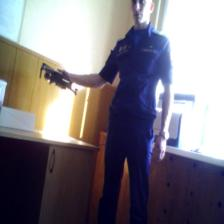drone: (36, 55, 84, 101)
